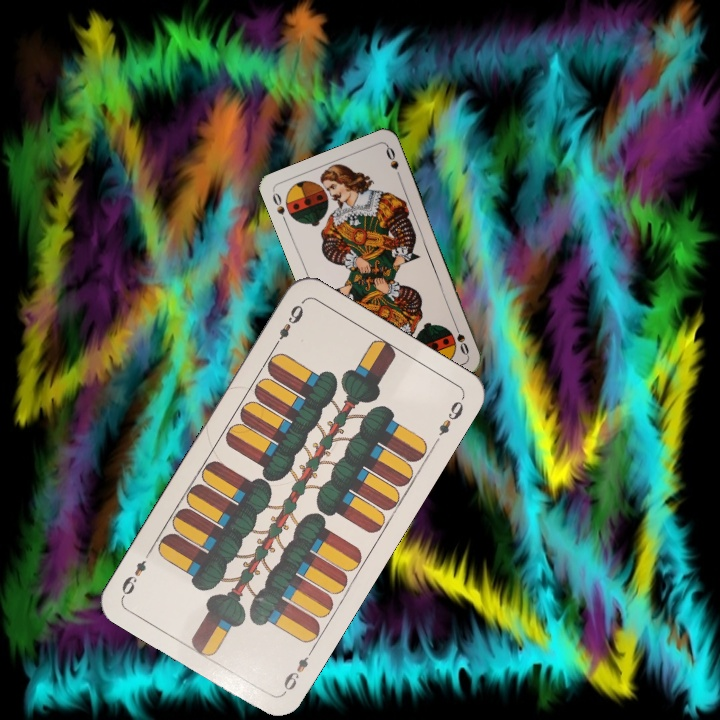E9: (279, 644, 317, 697), (269, 300, 306, 351)
SO: (450, 318, 472, 358), (268, 188, 290, 227)
